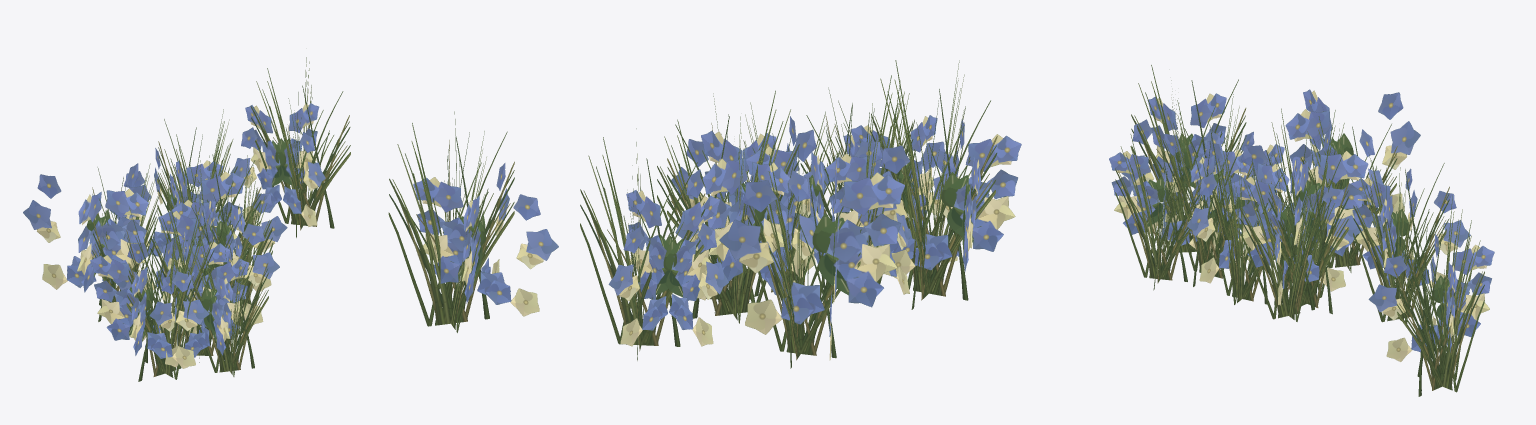
The model's file is SM_Flower_Patch.fbx.
3 renders of one model, left to right at view 1: azimuth 30°, elevation 25°; view 2: azimuth 150°, elevation 25°; view 3: azimuth 270°, elevation 25°, orthographic. The views are drawn at different scales.
Visible parts, largest first — view 1: SM_Flower_Patch_LOD0; view 2: SM_Flower_Patch_LOD0; view 3: SM_Flower_Patch_LOD0.
Boxes of the visible parts, x1,y1,x2,y2 form: SM_Flower_Patch_LOD0: (23,57,350,381); SM_Flower_Patch_LOD0: (388,60,1021,368); SM_Flower_Patch_LOD0: (1109,65,1494,396).
Bounding box in the file's own units: 1.31 × 0.6705 × 1.23.
